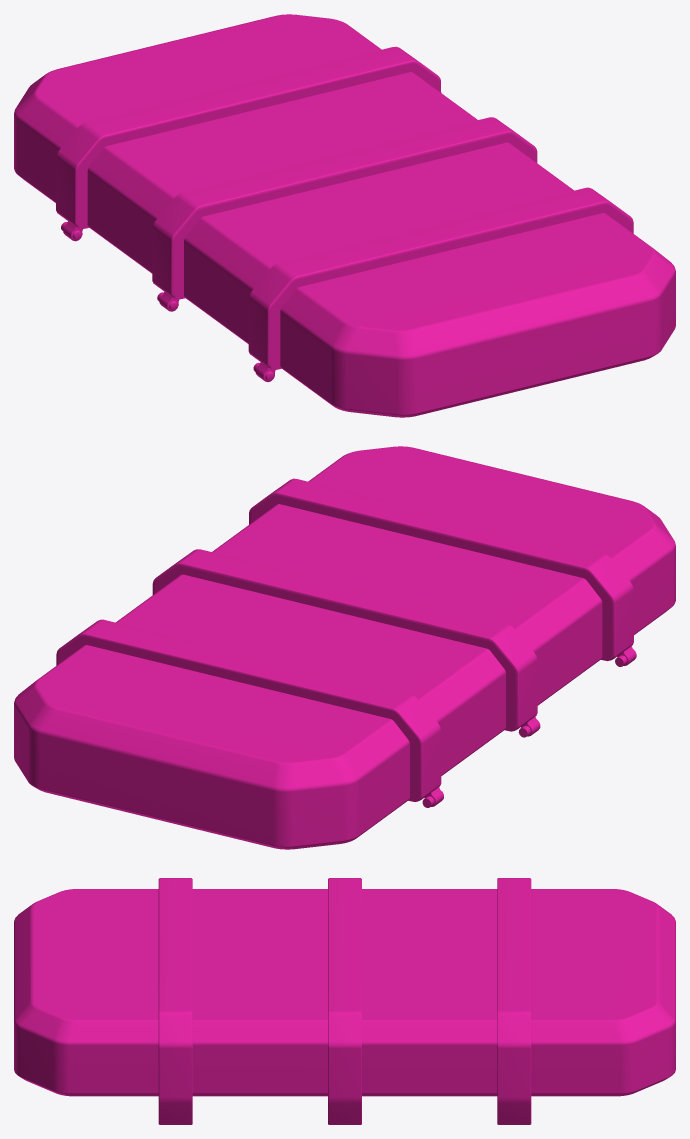
3 views of the same model, one above another, from view 1: azimuth 30°, elevation 25°; view 2: azimuth 150°, elevation 25°; view 3: azimuth 270°, elevation 25° (orthographic). The views are drawn at different scales.
Parts seen in each view (by area): view 1: SM_Box02_part02; view 2: SM_Box02_part02; view 3: SM_Box02_part02.
Part boxes in pixels (box(x1,y1,x2,y2)): SM_Box02_part02: box(14, 14, 675, 417); SM_Box02_part02: box(14, 446, 675, 849); SM_Box02_part02: box(14, 878, 675, 1124).
Bounding box in the file's own units: 128 × 39.67 × 225.
